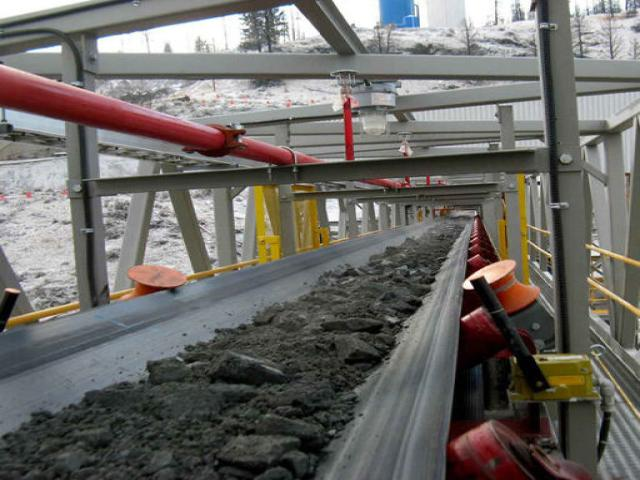conveyor: (0, 211, 560, 480)
